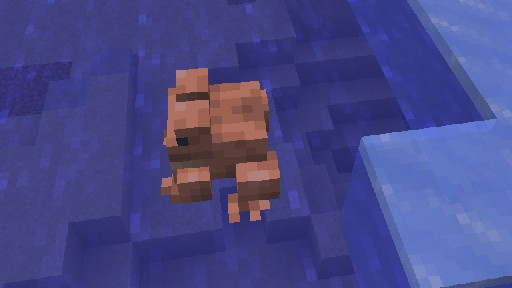frog: (160, 67, 280, 223)
